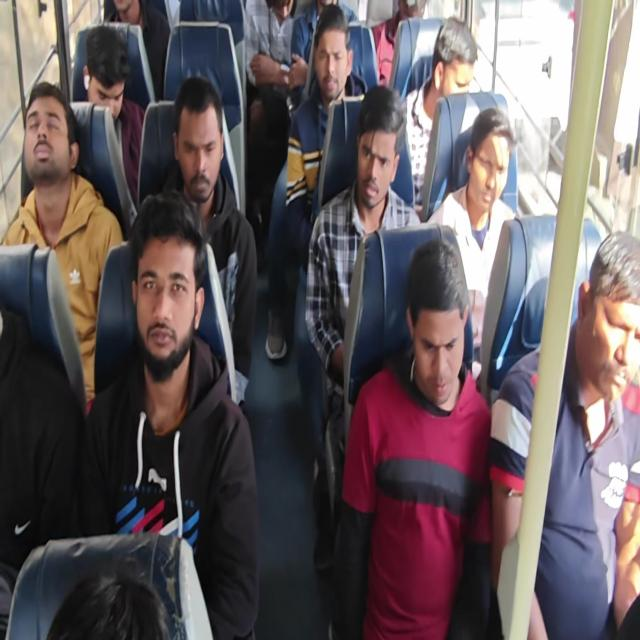person: (47, 565, 189, 640), (402, 261, 475, 398), (132, 242, 204, 372), (576, 246, 640, 384), (82, 28, 136, 129), (353, 103, 400, 197), (180, 102, 225, 197), (462, 116, 507, 208), (426, 22, 474, 103), (22, 100, 74, 174), (313, 22, 350, 105), (97, 0, 147, 19)
